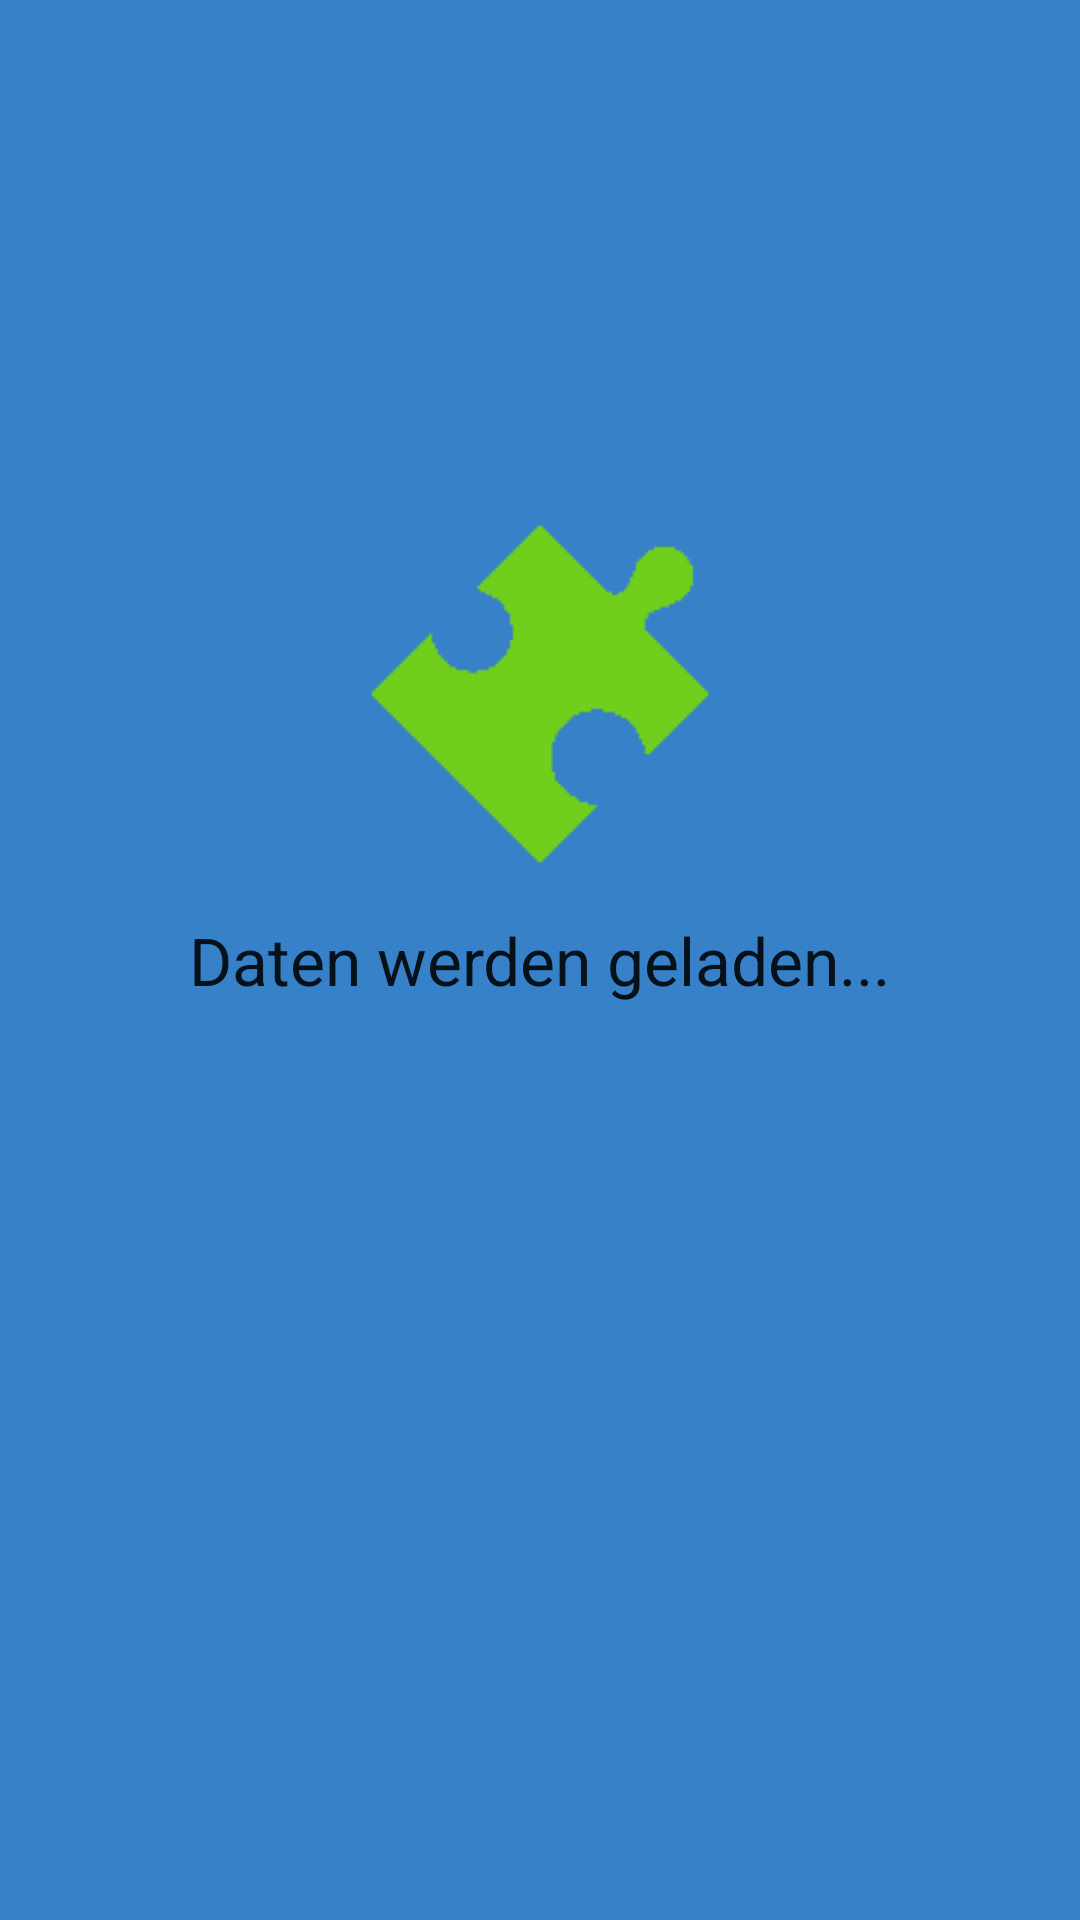

Where icons sit on this 1080px x 1920px app screen, as Rect(x1, y1, x2, y2):
puzzle: Rect(371, 525, 709, 863)
